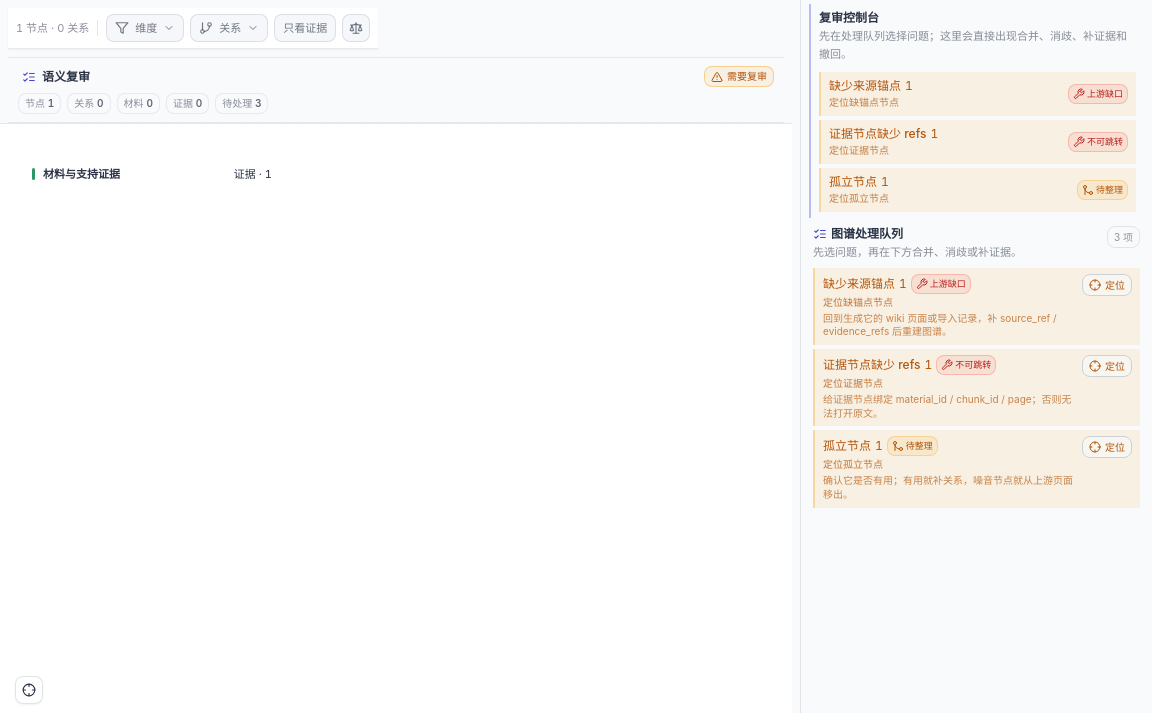
Test: DimensionGraphViewer › applies node evidence from the graph review console and keeps the audit patch visible
The width and height of the screenshot is (1152, 713).
Click the button with aria-label "定位证据节点缺少 refs".
click(872, 364)  # box [813,349,1140,426]
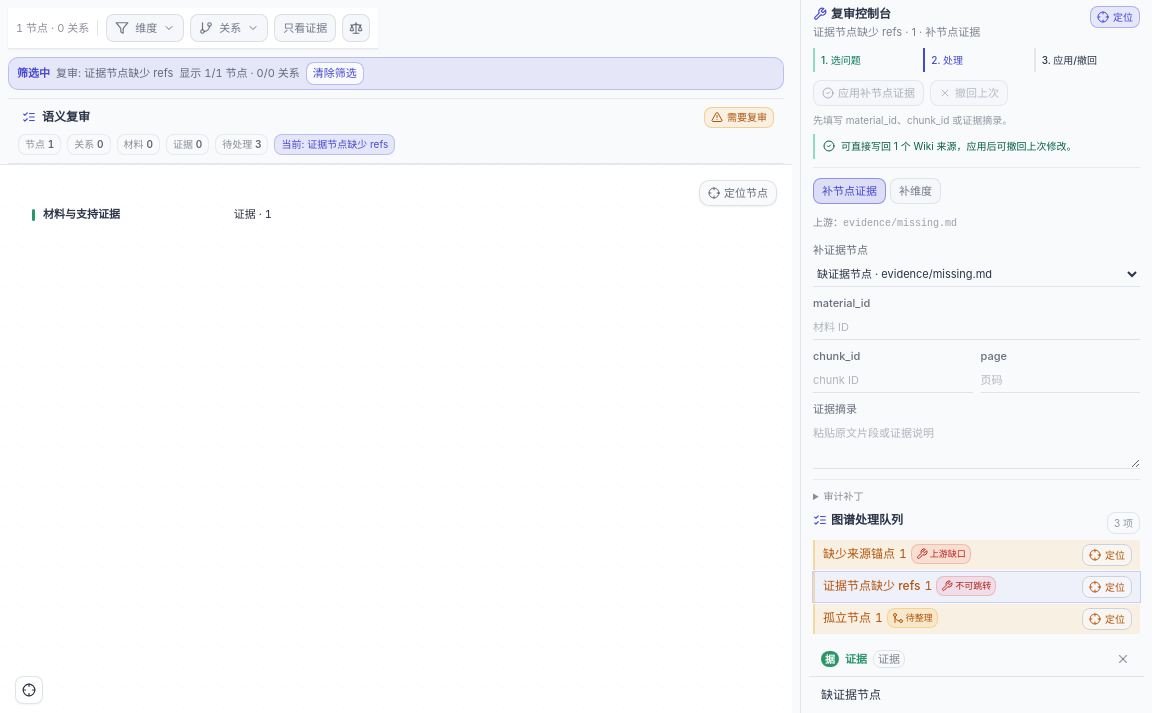
Type "mat-1" into the field labelled "material_id".
click(976, 327); type("mat-1")  # box [813,315,1140,340]
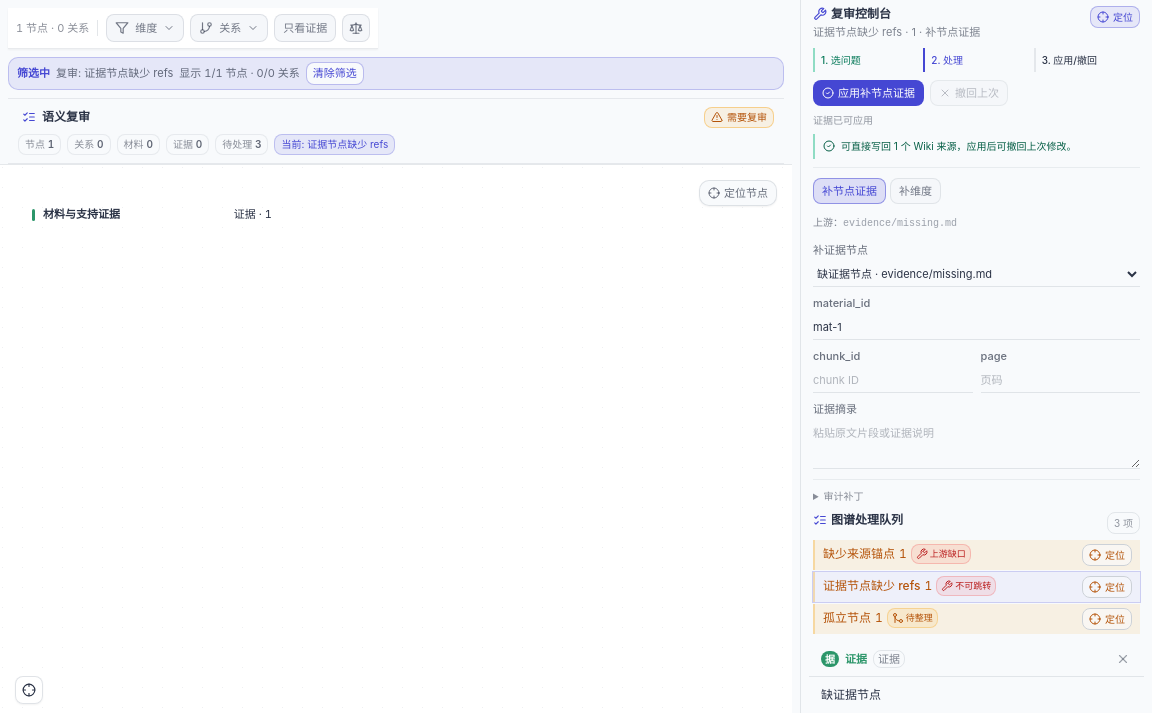
Type "chunk-9" into the field labelled "chunk_id".
click(893, 380); type("chunk-9")  # box [813,368,972,393]
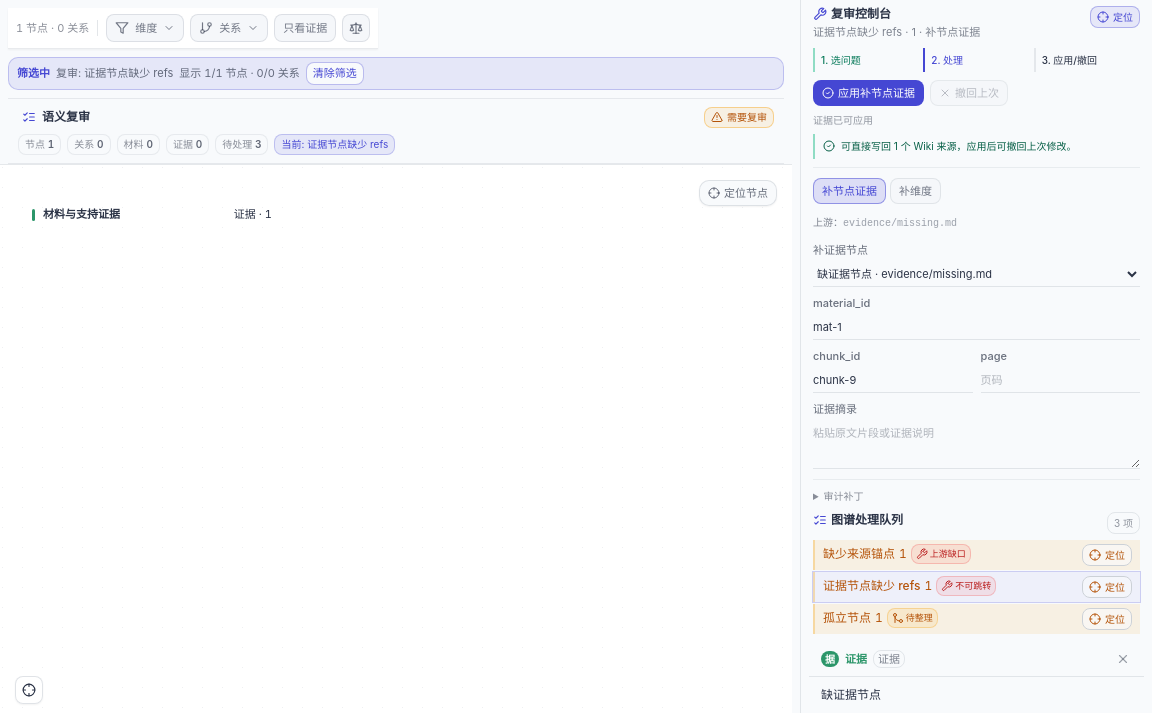
Type "7" into the field labelled "page".
click(1060, 380); type("7")  # box [980,368,1140,393]
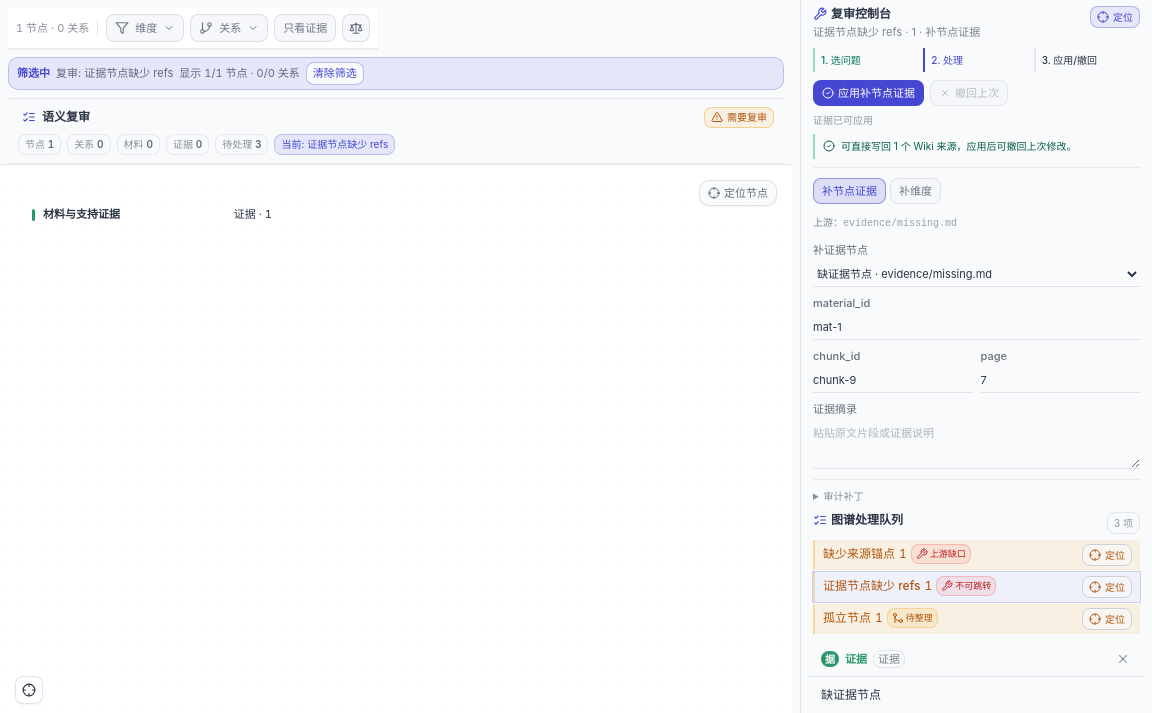
Type "原文证据片段" into the text box labelled "证据摘录".
click(976, 445); type("原文证据片段")  # box [813,421,1140,469]
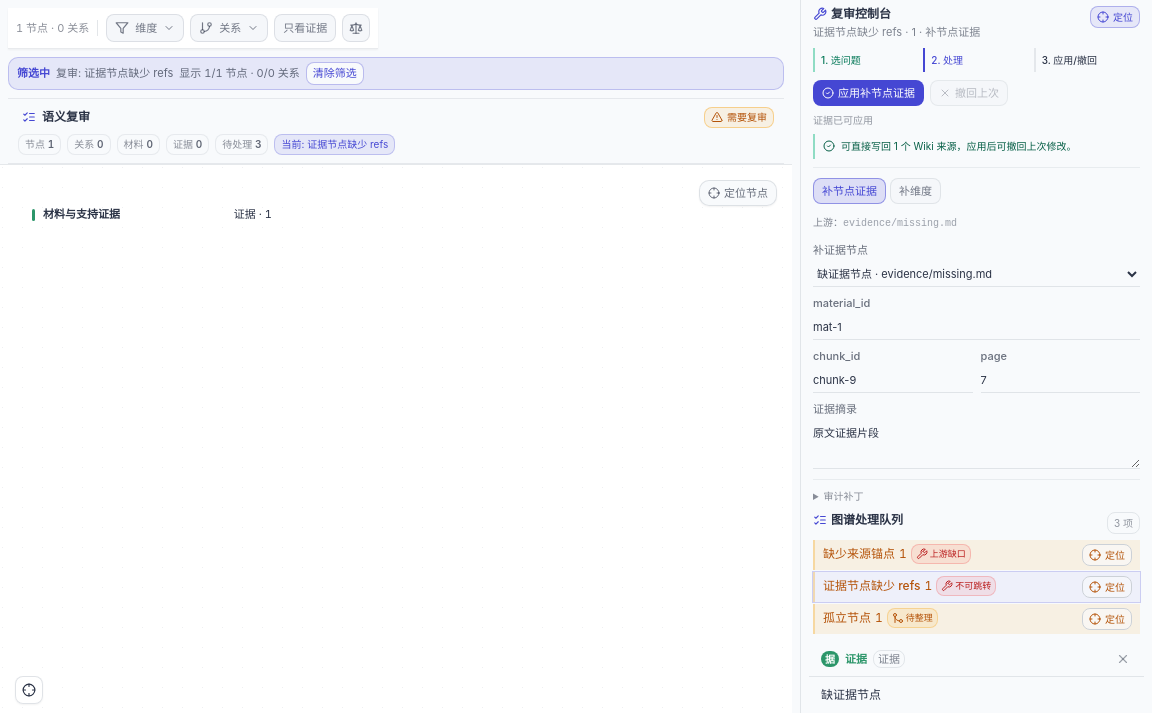
Expected: the button "应用补节点证据" is enabled
Click the button "应用补节点证据".
click(868, 93)  # box [813,80,924,106]
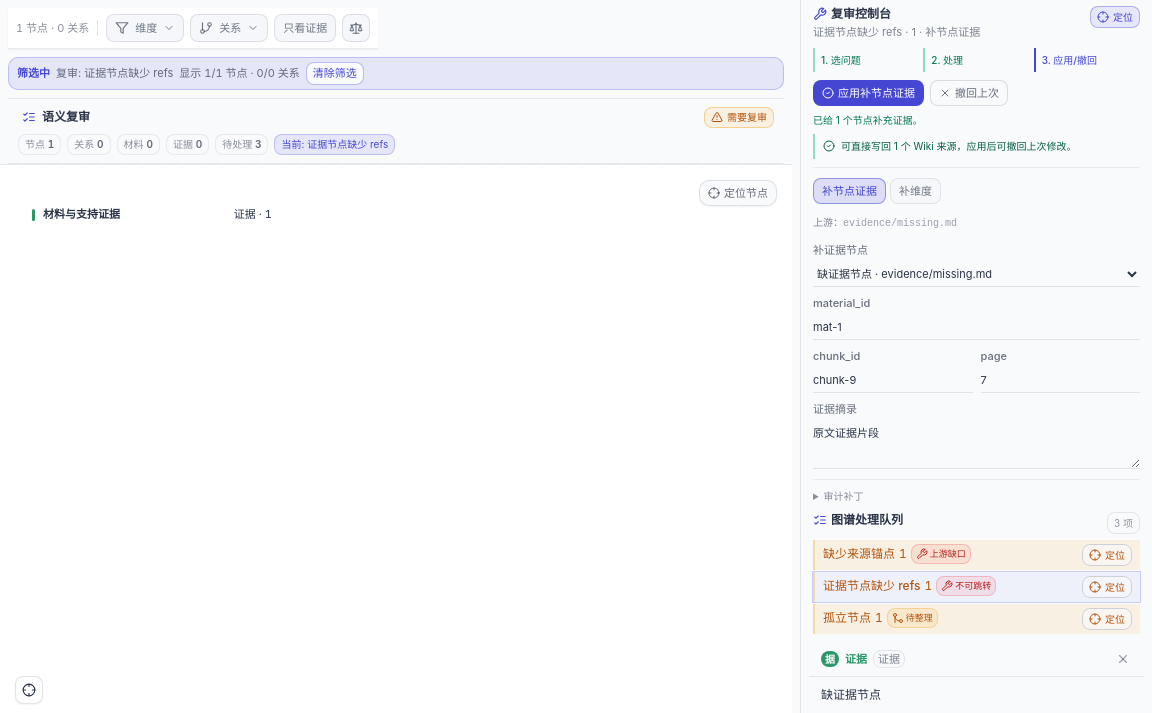
Expected: the button "撤回上次" is enabled, [930,80,1008,106]
